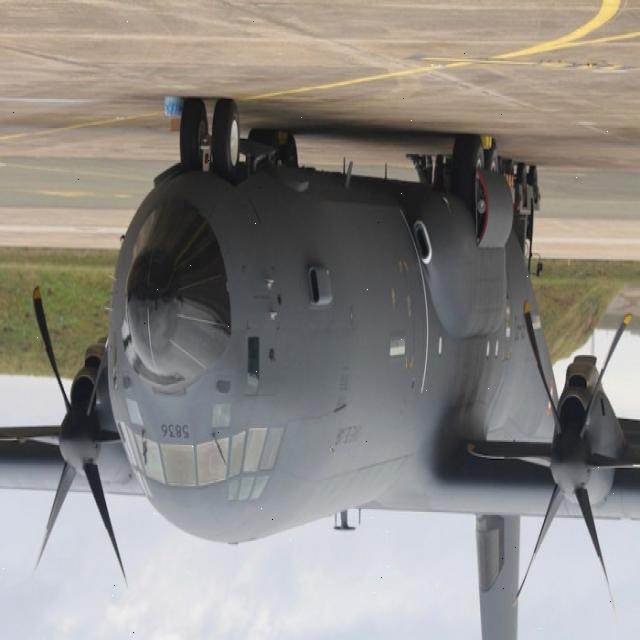C130: (3, 70, 638, 640)
